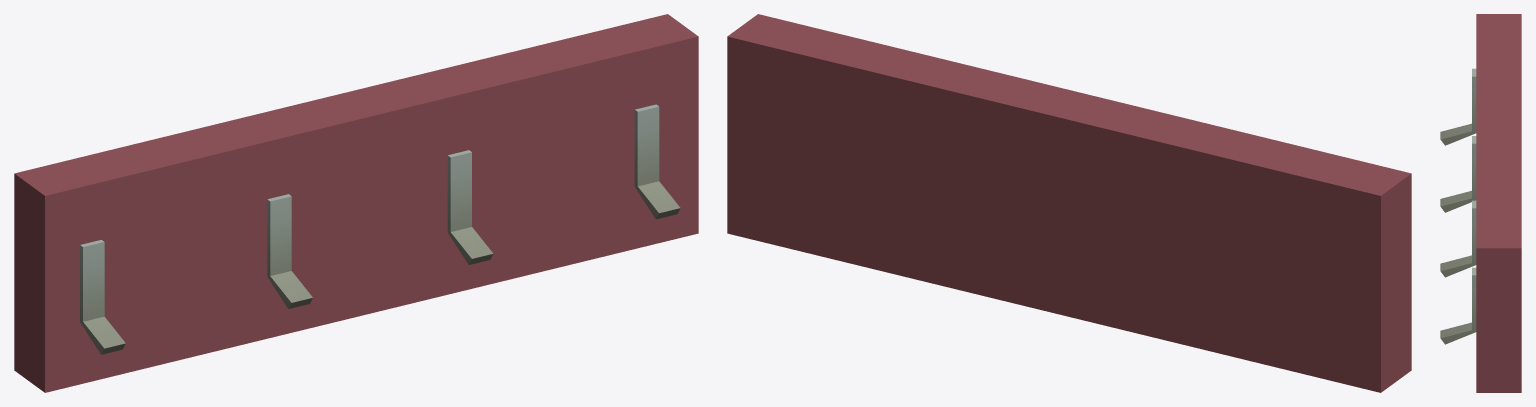
Rendered from SM_Hanger_Laundry_1_03.fbx.
3 renders of one model, left to right at view 1: azimuth 30°, elevation 25°; view 2: azimuth 150°, elevation 25°; view 3: azimuth 270°, elevation 25°, orthographic. The views are drawn at different scales.
Visible parts, largest first — view 1: SM_Hanger_Laundry_1_03; view 2: SM_Hanger_Laundry_1_03; view 3: SM_Hanger_Laundry_1_03.
Boxes of the visible parts, x1=… form: SM_Hanger_Laundry_1_03: x1=14, y1=14, x2=698, y2=392; SM_Hanger_Laundry_1_03: x1=727, y1=14, x2=1411, y2=392; SM_Hanger_Laundry_1_03: x1=1440, y1=14, x2=1521, y2=392.
Bounding box in the file's own units: 36.8 × 10.6 × 5.38.
